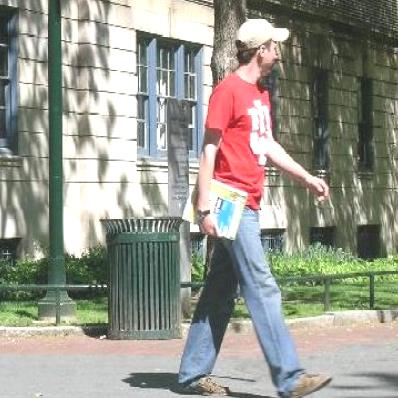ped: (176, 20, 335, 398)
